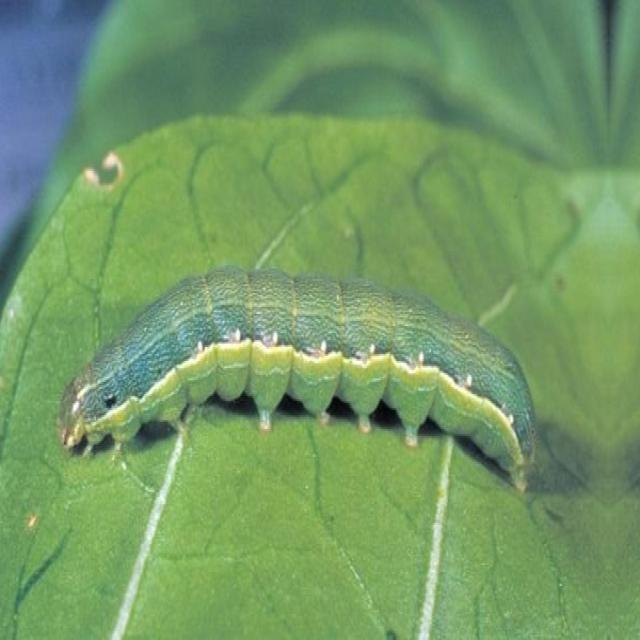Armyworm: (38, 231, 574, 520)
